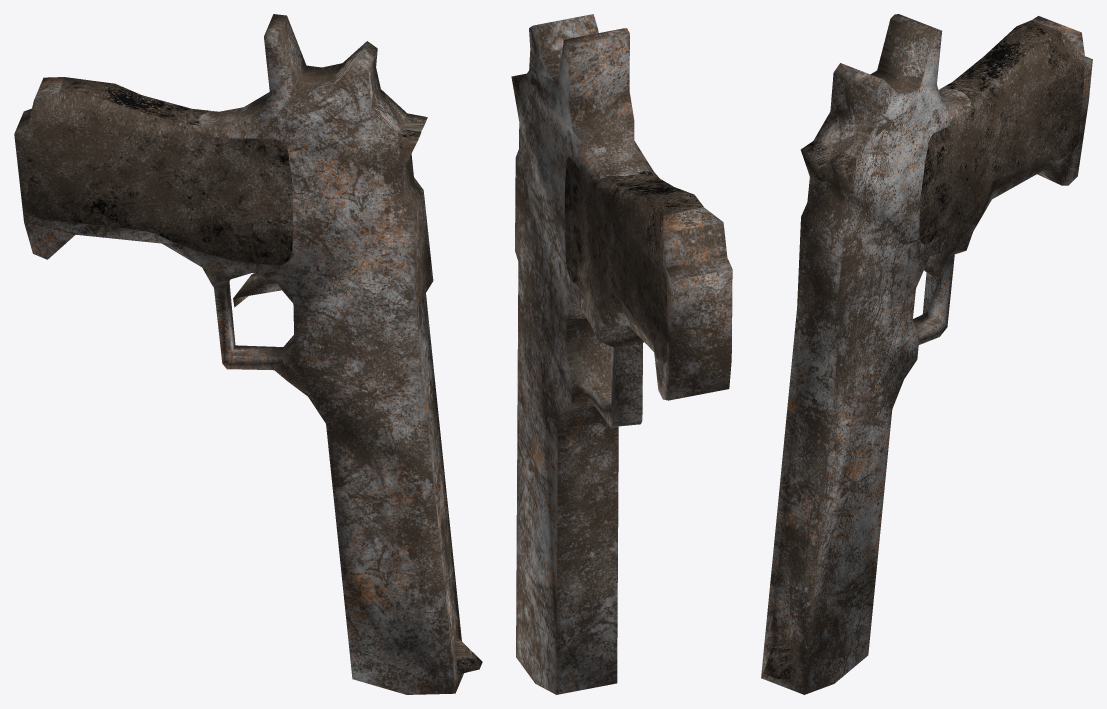
File: Anim_idle_pistola_objetos.0023.obj
3 renders of one model, left to right at view 1: azimuth 30°, elevation 25°; view 2: azimuth 150°, elevation 25°; view 3: azimuth 270°, elevation 25°, orthographic. The views are drawn at different scales.
Parts seen in each view (by area): view 1: Pistola1; view 2: Pistola1; view 3: Pistola1.
Boxes of the visible parts, x1,y1,x2,y2 form: Pistola1: (14, 14, 482, 694); Pistola1: (511, 14, 732, 694); Pistola1: (761, 14, 1092, 694).
Bounding box in the file's own units: 0.8976 × 1.68 × 0.8228.
